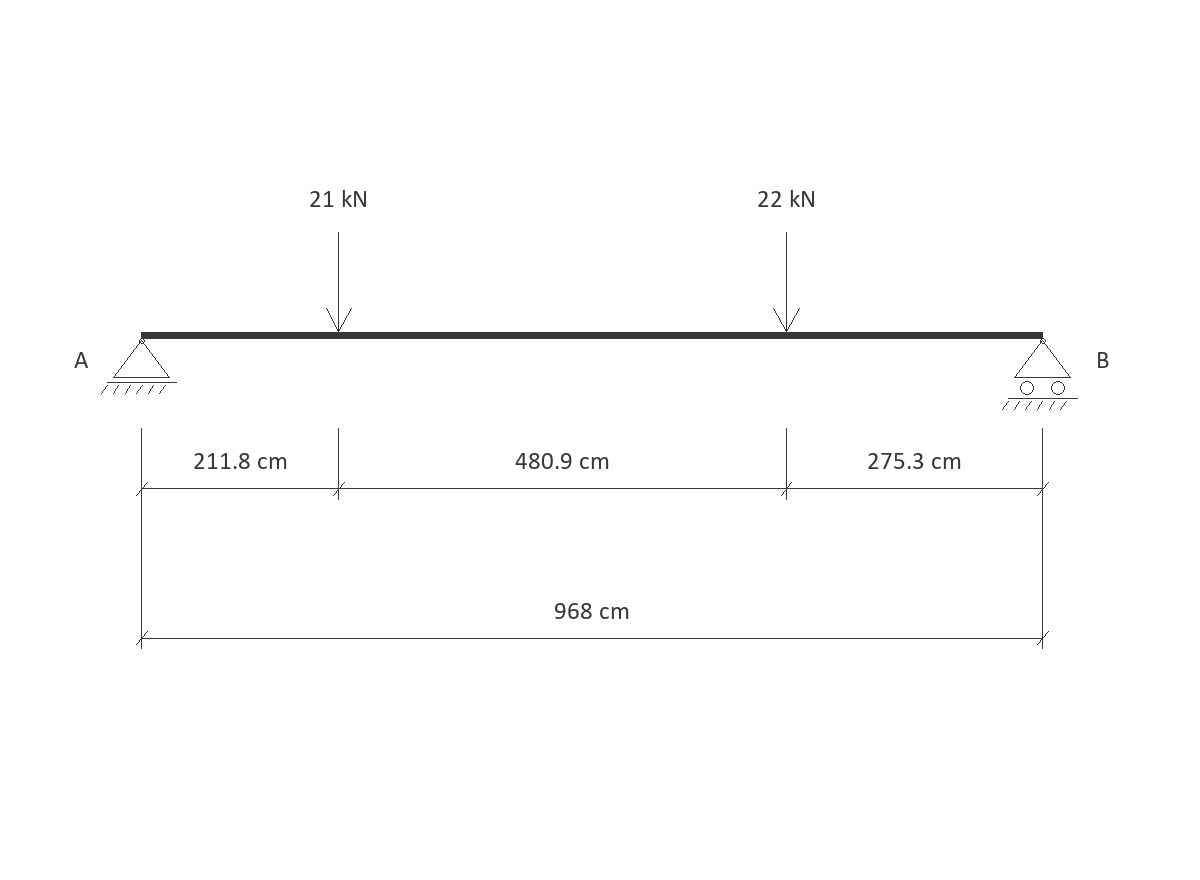pin_support: (101, 338, 177, 394)
point_load: (773, 232, 800, 332), (326, 232, 352, 332)
roller_support: (1002, 338, 1078, 410)
